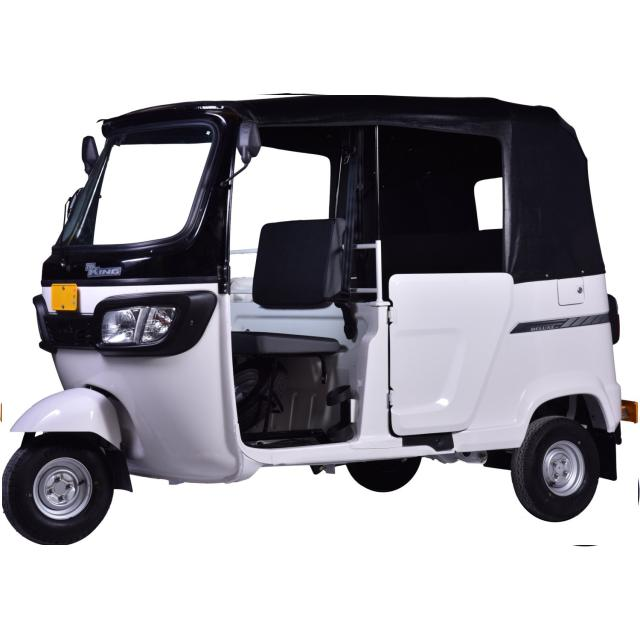autorickshaw: (2, 95, 638, 545)
